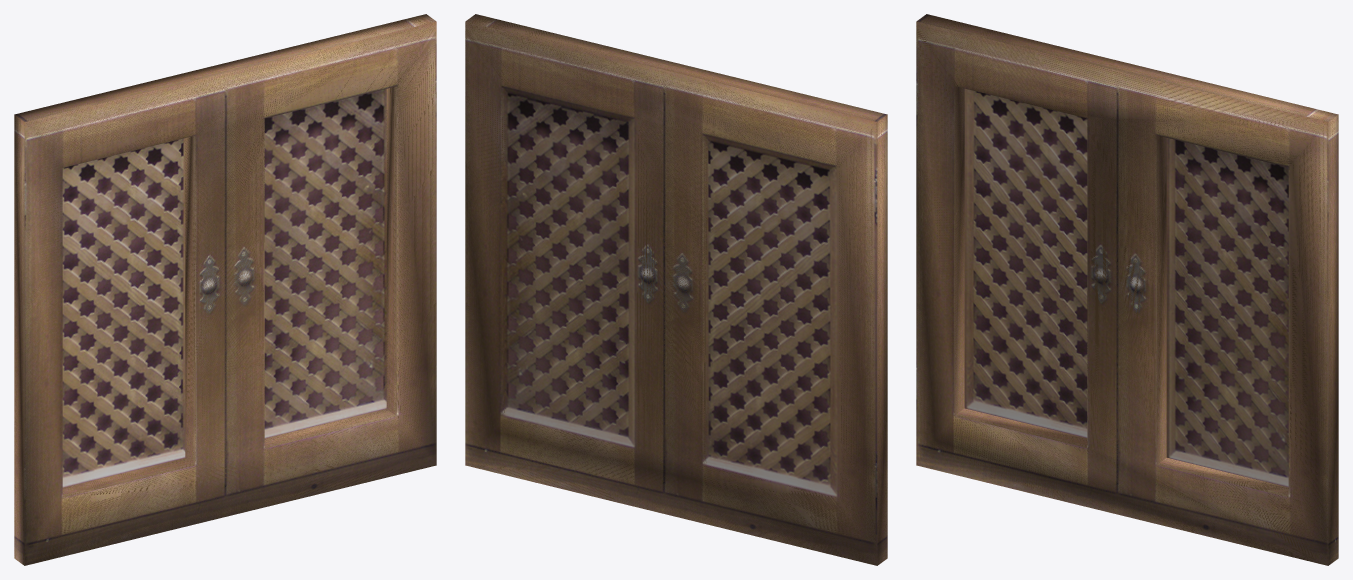
3 renders of one model, left to right at view 1: azimuth 30°, elevation 25°; view 2: azimuth 150°, elevation 25°; view 3: azimuth 330°, elevation 25°, orthographic.
Parts seen in each view (by area): view 1: ventana (×5); view 2: ventana (×3); view 3: ventana (×5).
Boxes of the visible parts, box(x1,y1,x2,y2) form: ventana (×5): box(14, 14, 436, 565); ventana (×3): box(465, 14, 887, 565); ventana (×5): box(916, 14, 1338, 565).
Size of the model in its own units: 39.65 by 1.71 by 40.83.
2 materials, 1 textured.
